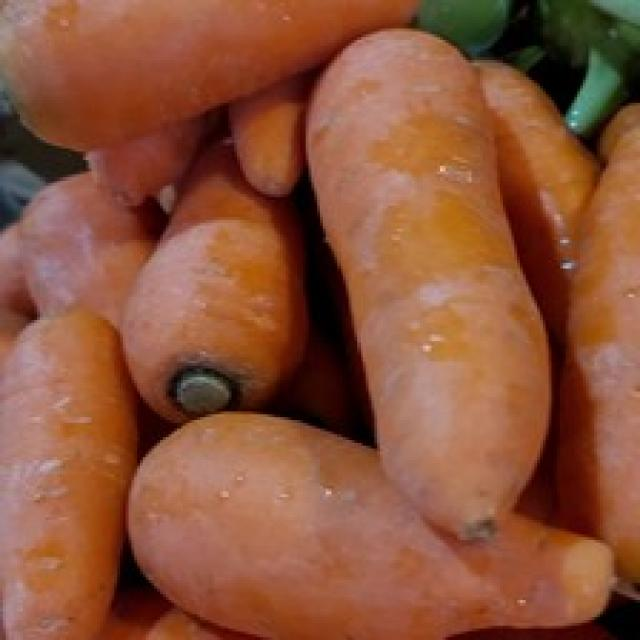Fresh_Carrot: (135, 388, 619, 640), (321, 26, 533, 539)
